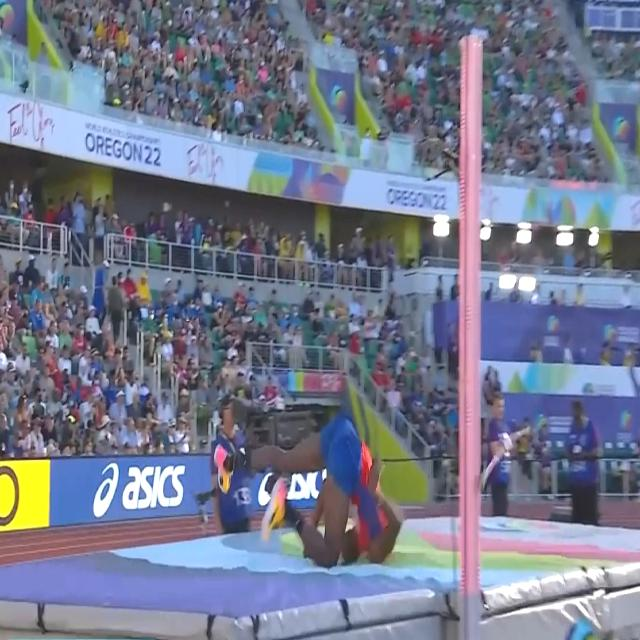land: (206, 404, 396, 565)
